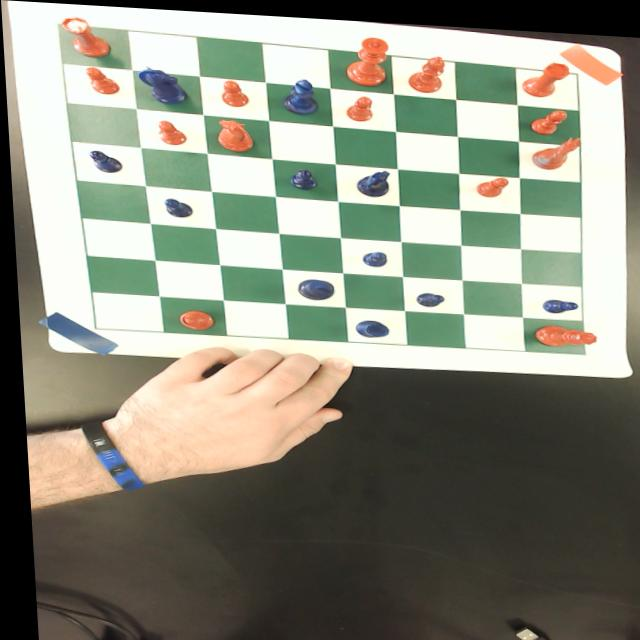B: (279, 74, 318, 112)
K: (292, 274, 332, 298)
N: (135, 64, 188, 105), (353, 165, 389, 193)
P: (84, 149, 121, 172), (285, 164, 316, 187), (158, 196, 191, 216), (537, 292, 576, 308), (411, 287, 442, 303), (358, 246, 384, 263)
R: (348, 314, 387, 334)
b: (403, 49, 447, 89), (175, 307, 210, 328)
k: (342, 31, 390, 83)
n: (527, 127, 581, 165), (208, 116, 253, 150)
p: (526, 101, 567, 129), (82, 65, 119, 95), (217, 76, 248, 104), (154, 118, 187, 144), (473, 170, 510, 193), (343, 91, 372, 118)
q: (529, 319, 594, 342)
r: (58, 15, 111, 57), (517, 54, 571, 92)
